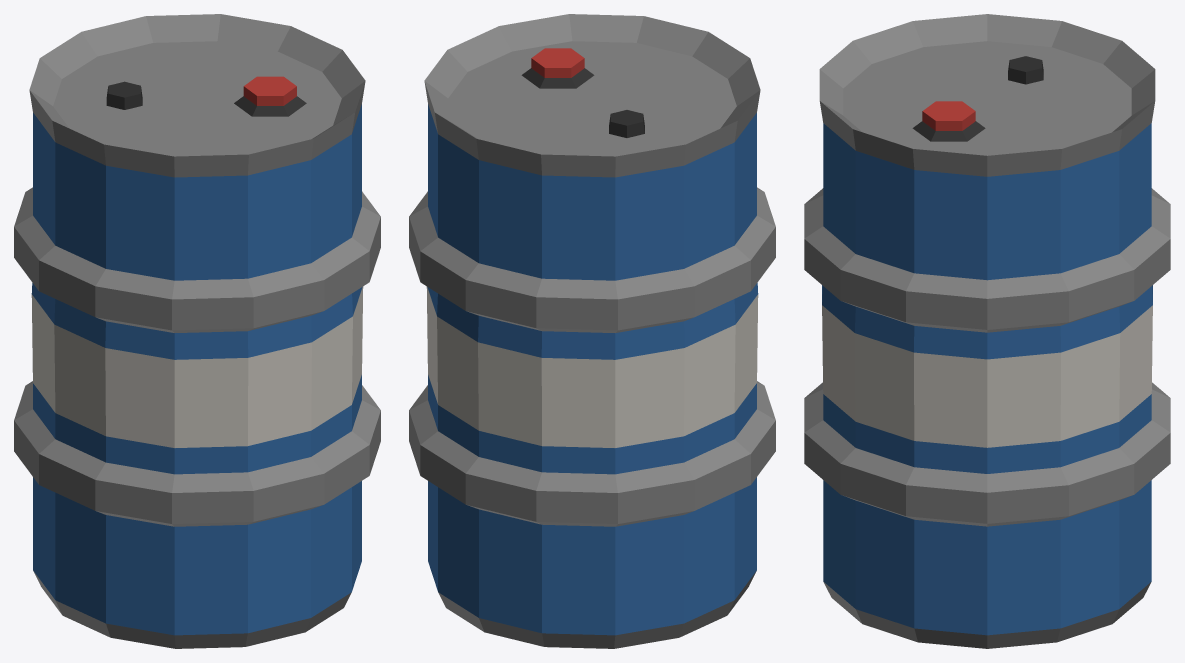
File: varil.glb
The picture shows the model from 3 angles, left to right: view 1: azimuth 30°, elevation 25°; view 2: azimuth 150°, elevation 25°; view 3: azimuth 270°, elevation 25°; orthographic projection.
Visible parts, largest first — view 1: varil; view 2: varil; view 3: varil.
Boxes of the visible parts, x1,y1,x2,y2 form: varil: (14, 14, 380, 648); varil: (409, 14, 775, 648); varil: (804, 14, 1170, 648).
Bounding box in the file's own units: 0.62 × 0.93 × 0.62.
